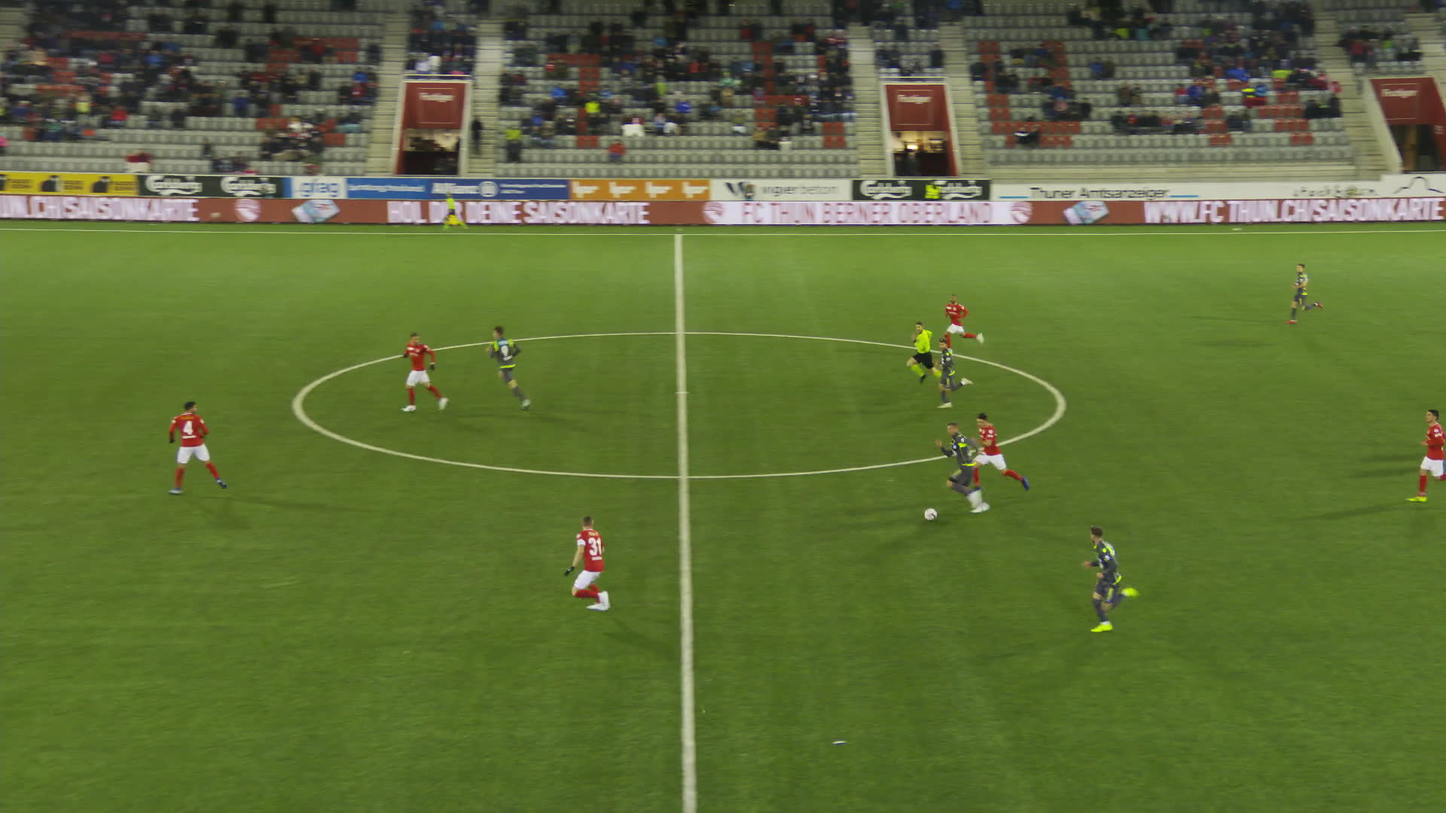ball: (924, 507, 938, 520)
player: (1072, 522, 1138, 632), (559, 510, 624, 617), (936, 419, 1001, 516), (162, 399, 224, 498), (964, 411, 1026, 500), (390, 331, 449, 413), (482, 324, 530, 410), (1405, 406, 1445, 503), (928, 337, 972, 408), (941, 294, 980, 355), (1283, 261, 1319, 323), (1426, 361, 1445, 443)
referee: (905, 321, 950, 391), (436, 189, 465, 232)
